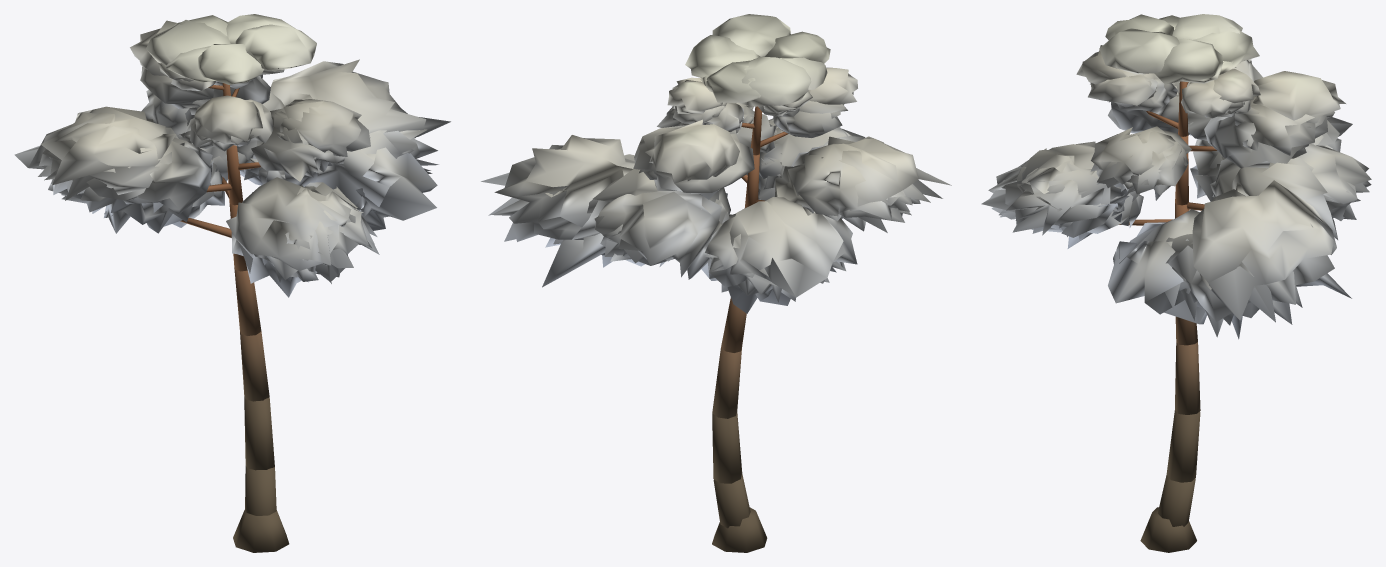
3 views of the same model, side by side, from view 1: azimuth 30°, elevation 25°; view 2: azimuth 150°, elevation 25°; view 3: azimuth 270°, elevation 25° (orthographic). The views are drawn at different scales.
Visible parts, largest first — view 1: crown, trunk1, trunk2; view 2: crown, trunk1, trunk2; view 3: crown, trunk1, trunk2.
Boxes of the visible parts, x1,y1,x2,y2 form: crown: (14,14,450,297); trunk1: (233,331,289,552); trunk2: (180,83,261,335); crown: (481,14,951,313); trunk1: (712,348,767,552); trunk2: (721,106,788,352); crown: (981,14,1371,339); trunk1: (1140,342,1200,552); trunk2: (1119,81,1216,345).
Bounding box in the file's own units: 14.95 × 16.87 × 11.82.
